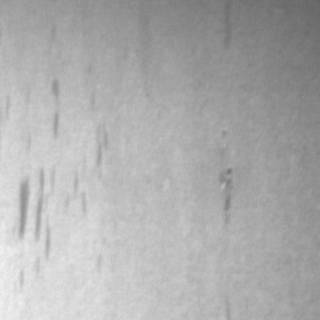inclusion: (8, 160, 58, 264), (211, 154, 241, 240), (42, 68, 68, 148), (213, 0, 237, 52)
